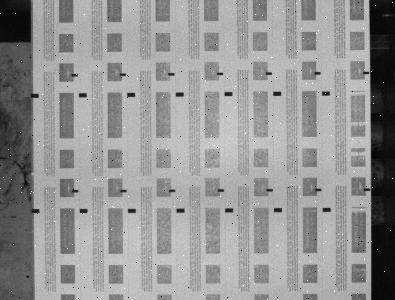backgroundclutter: (26, 275, 30, 278)
qblock: (322, 207, 331, 212), (32, 208, 40, 213), (128, 208, 136, 213), (31, 93, 39, 98), (127, 92, 135, 97), (273, 91, 281, 96), (176, 208, 185, 212), (80, 209, 88, 213), (274, 208, 282, 212), (225, 208, 233, 212), (79, 93, 87, 97), (225, 92, 233, 96), (176, 92, 184, 96), (322, 91, 330, 95)
smallqblock: (266, 188, 273, 192), (71, 73, 78, 77), (315, 188, 322, 191), (364, 188, 371, 191), (120, 189, 127, 192), (169, 189, 176, 192), (72, 189, 79, 192), (218, 189, 225, 192), (217, 72, 224, 75), (363, 71, 370, 74), (168, 73, 175, 76), (315, 72, 321, 75), (266, 72, 272, 75), (120, 73, 126, 76)
